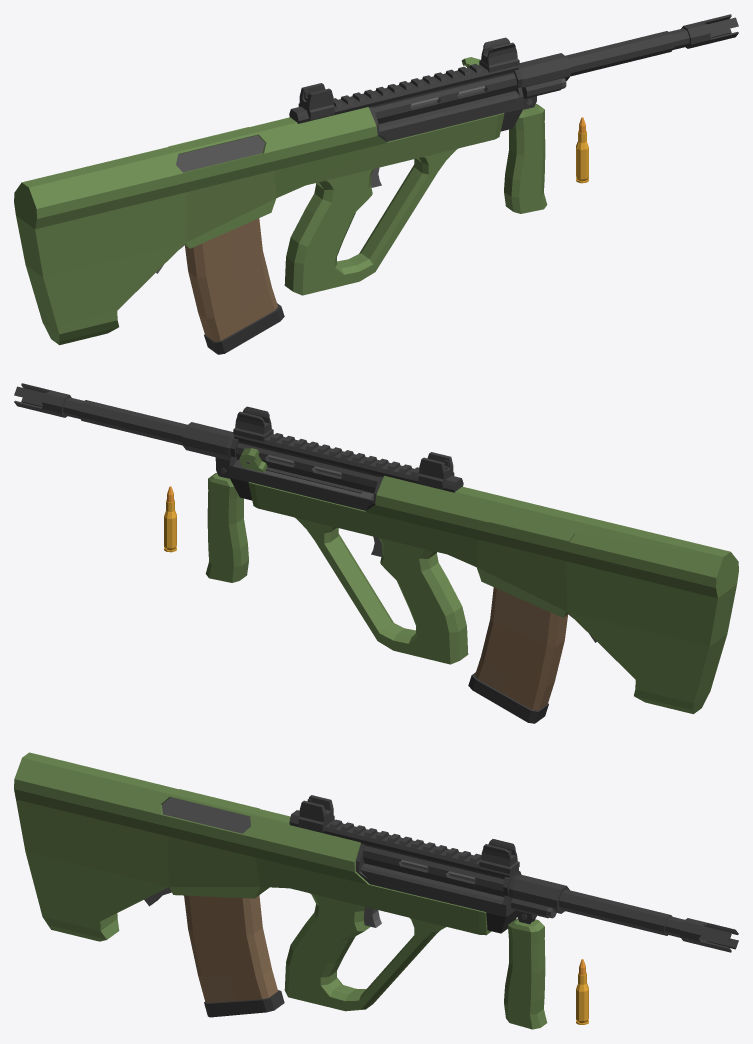
Rendered from AUG.fbx.
3 views of the same model, one above another, from view 1: azimuth 30°, elevation 25°; view 2: azimuth 150°, elevation 25°; view 3: azimuth 330°, elevation 25° (orthographic).
Visible parts, largest first — view 1: AUG, Mag, Bullet; view 2: AUG, Mag, Bullet; view 3: AUG, Mag, Bullet.
Boxes of the visible parts, box(x1,y1,x2,y2) form: AUG: box(14, 14, 738, 345); Mag: box(184, 218, 284, 354); Bullet: box(576, 117, 588, 183); AUG: box(14, 383, 738, 714); Mag: box(468, 587, 568, 723); Bullet: box(164, 486, 176, 552); AUG: box(14, 752, 738, 1029); Mag: box(184, 895, 284, 1017); Bullet: box(576, 959, 588, 1024).
Bounding box in the file's own units: 768 × 248 × 56.29.
1 material, 1 textured.
